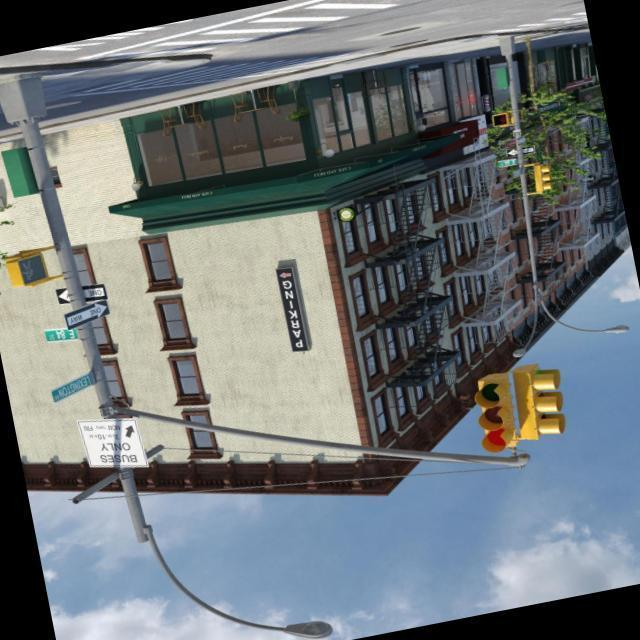off: (172, 565, 372, 636)
